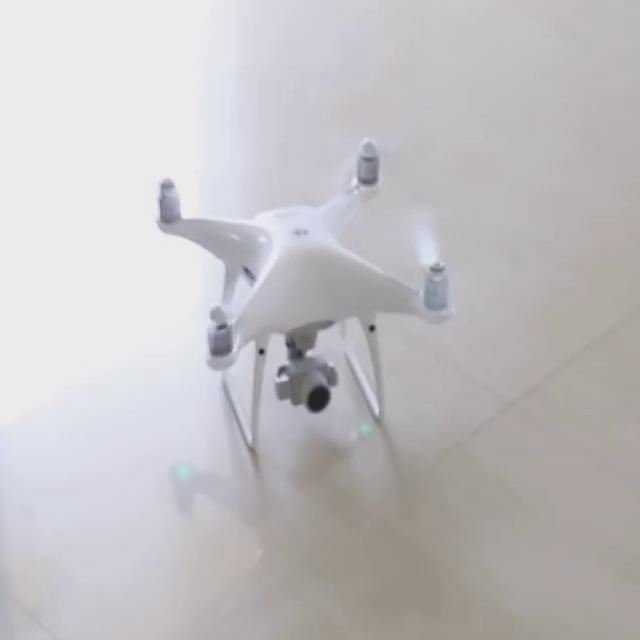drone: (138, 133, 482, 394)
